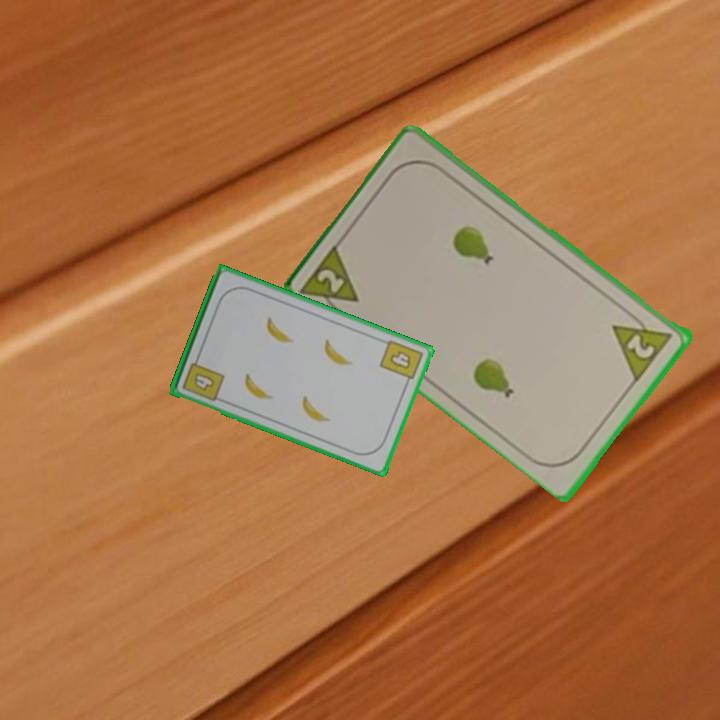2p: (298, 238, 363, 321), (623, 330, 658, 362)
4b: (376, 336, 426, 389), (179, 352, 227, 404)
